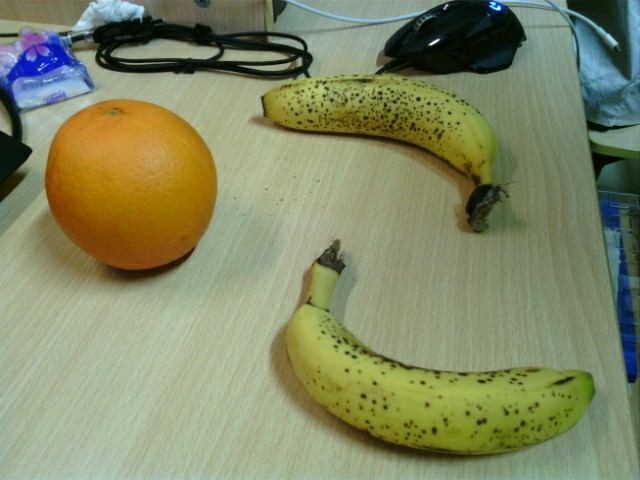normal_banana: (286, 238, 598, 454), (260, 73, 505, 233)
normal_orange: (45, 98, 216, 268)
